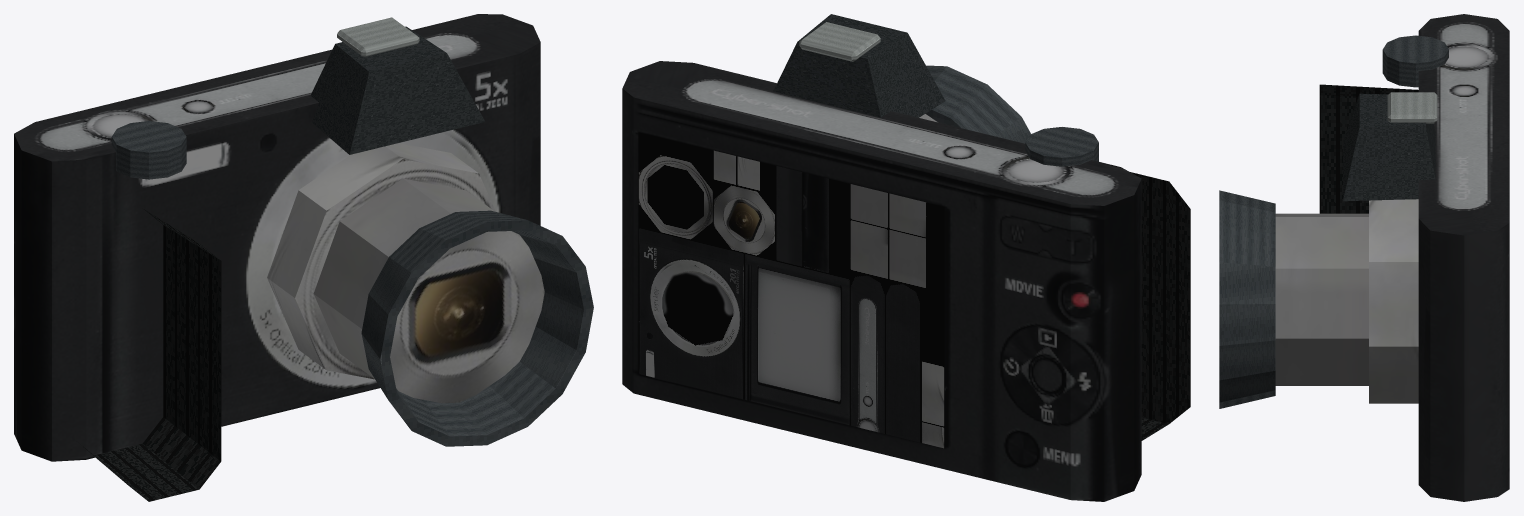
File: blender_photo_camera_3.glb
3 views of the same model, side by side, from view 1: azimuth 30°, elevation 25°; view 2: azimuth 150°, elevation 25°; view 3: azimuth 270°, elevation 25° (orthographic). The views are drawn at different scales.
Visible parts, largest first — view 1: blender_photo_camera_3; view 2: blender_photo_camera_3; view 3: blender_photo_camera_3.
Boxes of the visible parts, x1=… form: blender_photo_camera_3: x1=14, y1=14, x2=593, y2=501; blender_photo_camera_3: x1=622, y1=14, x2=1190, y2=501; blender_photo_camera_3: x1=1219, y1=14, x2=1509, y2=501.
Size of the model in its own units: 0.158 by 0.1069 by 0.0875.
Materials: 5 (5 with a texture image).
